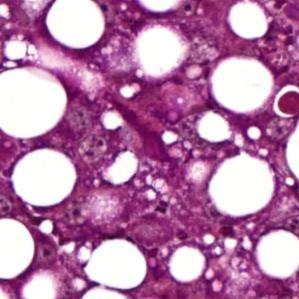steatosis: (1, 62, 67, 139), (205, 57, 274, 114), (209, 156, 274, 216), (12, 148, 78, 206), (81, 239, 147, 289), (46, 0, 106, 49), (133, 29, 189, 75), (0, 213, 33, 284), (255, 232, 299, 276), (225, 2, 269, 43), (166, 246, 208, 284)
